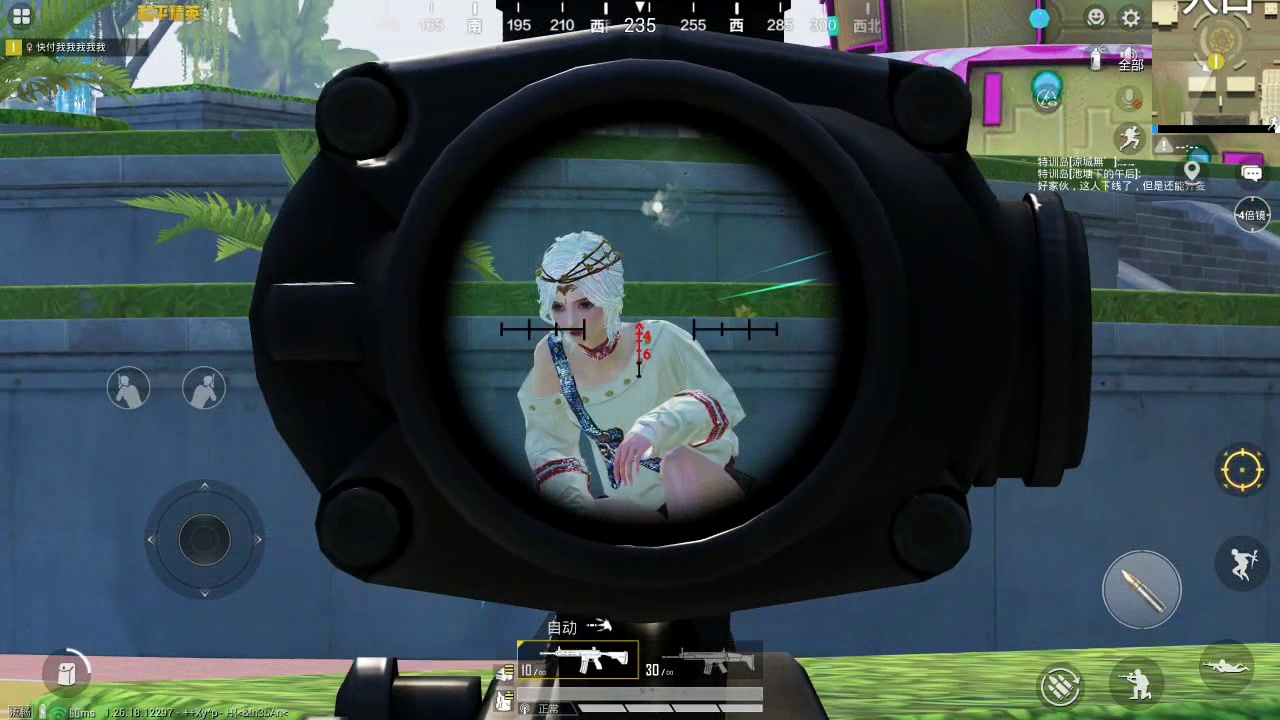enemy: (518, 233, 748, 523)
